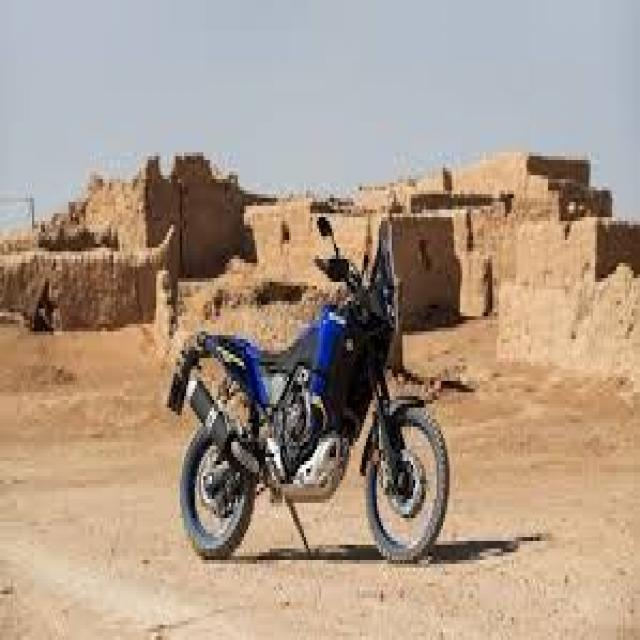Bike: (176, 247, 448, 567)
